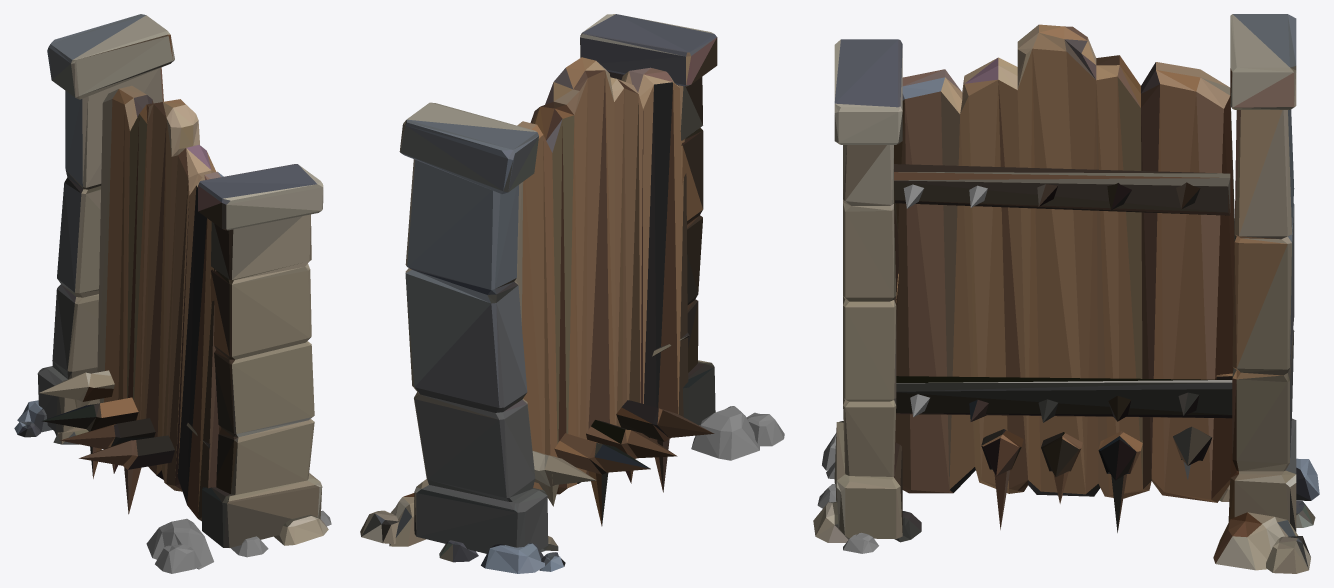
File: Portcullis.glb
The picture shows the model from 3 angles, left to right: view 1: azimuth 30°, elevation 25°; view 2: azimuth 150°, elevation 25°; view 3: azimuth 270°, elevation 25°; orthographic projection. The views are drawn at different scales.
Parts seen in each view (by area): view 1: world; view 2: world; view 3: world.
Boxes of the visible parts, x1,y1,x2,y2 form: world: (14, 14, 331, 573); world: (360, 14, 784, 573); world: (813, 14, 1319, 573).
Size of the model in its own units: 0.2852 by 0.498 by 0.4648.
